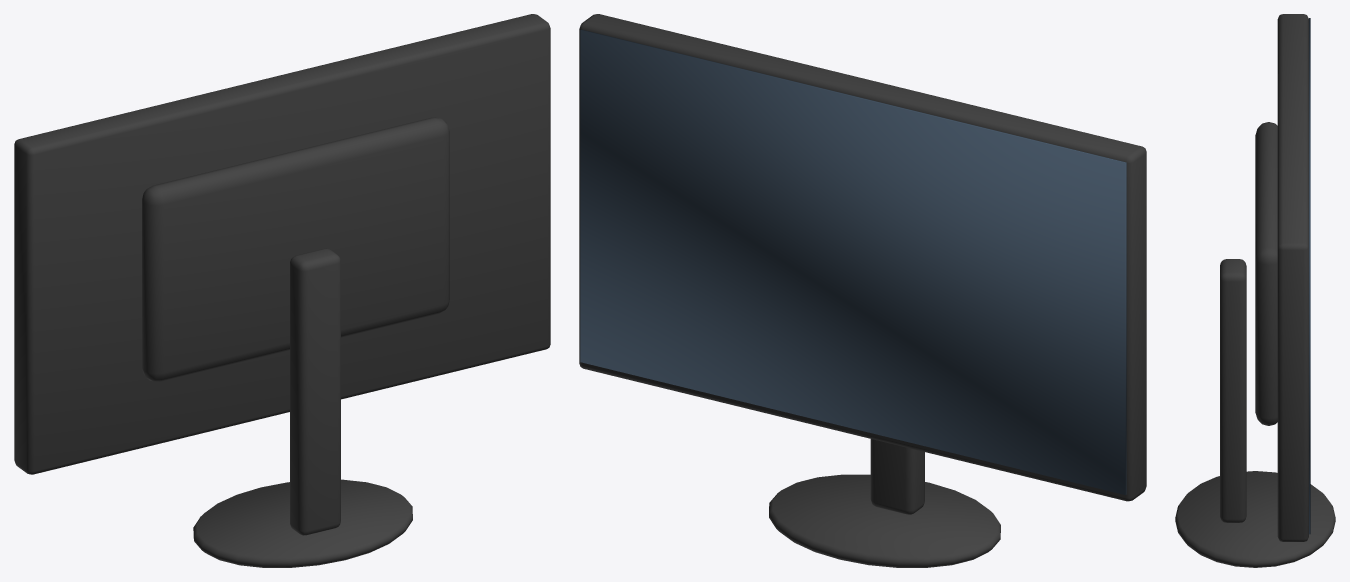
The model's file is monitor27.glb.
3 views of the same model, side by side, from view 1: azimuth 30°, elevation 25°; view 2: azimuth 150°, elevation 25°; view 3: azimuth 270°, elevation 25° (orthographic). The views are drawn at different scales.
Parts seen in each view (by area): view 1: tela; view 2: tela; view 3: tela.
Part boxes in pixels (x1=…): tela: x1=14, y1=14, x2=550, y2=567; tela: x1=579, y1=14, x2=1146, y2=567; tela: x1=1175, y1=14, x2=1335, y2=567.
Size of the model in its own units: 0.62 by 0.49 by 0.18.
